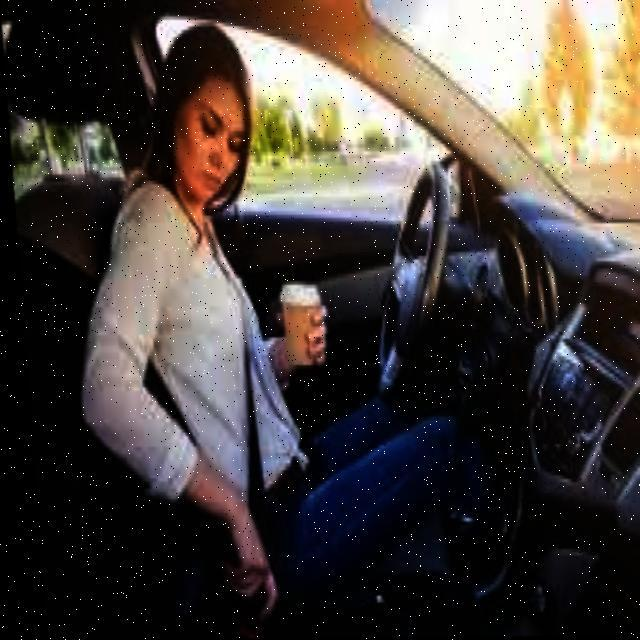seatbelt: (163, 204, 292, 512)
